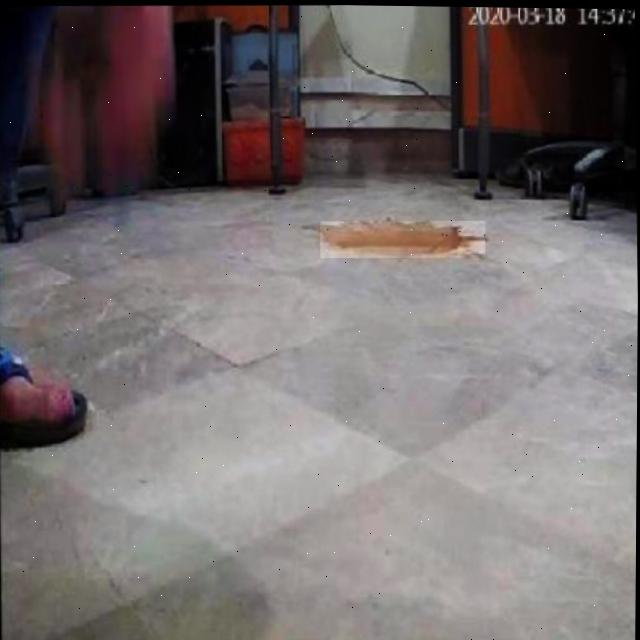spillage: (321, 220, 485, 255)
